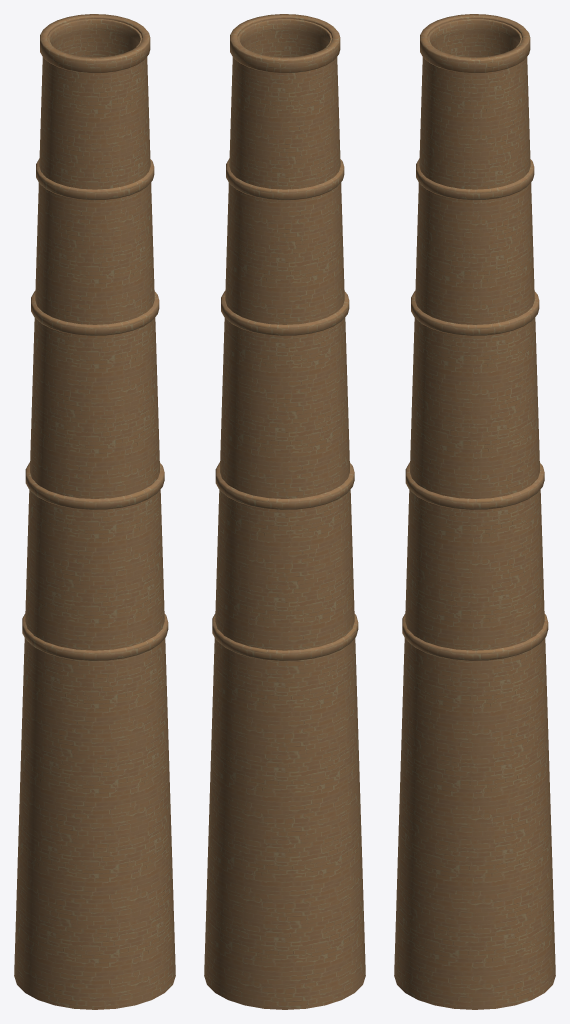
Rendered from SM_brick_chimney.glb.
3 renders of one model, left to right at view 1: azimuth 30°, elevation 25°; view 2: azimuth 150°, elevation 25°; view 3: azimuth 270°, elevation 25°, orthographic.
Visible parts, largest first — view 1: SM_brick_chimney; view 2: SM_brick_chimney; view 3: SM_brick_chimney.
Part boxes in pixels (x1,y1,x2,y2): SM_brick_chimney: (14, 14, 175, 1009); SM_brick_chimney: (204, 14, 365, 1009); SM_brick_chimney: (394, 14, 555, 1009).
Size of the model in its own units: 4.57 by 29.28 by 4.57.
1 material, 1 textured.
